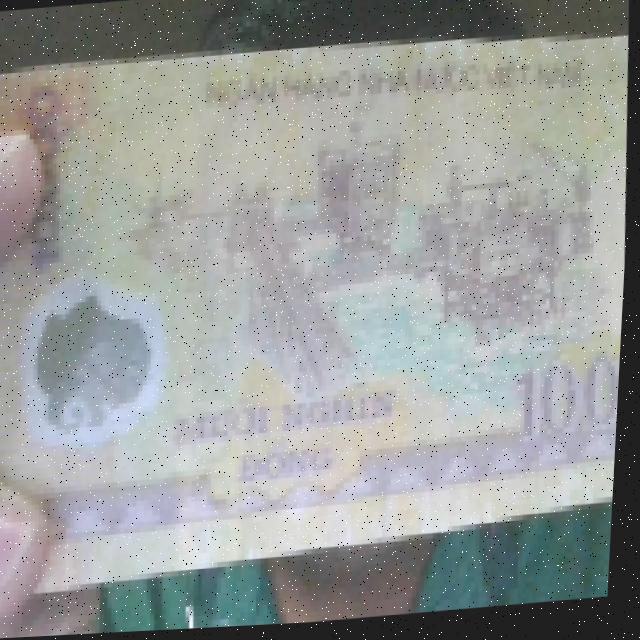10 000 VND: (0, 10, 639, 598)
